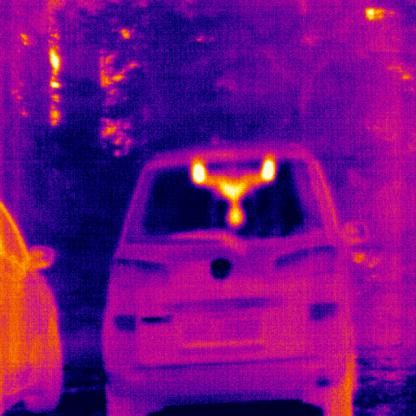drone: (188, 154, 276, 226)
vehicle: (101, 141, 355, 415)
